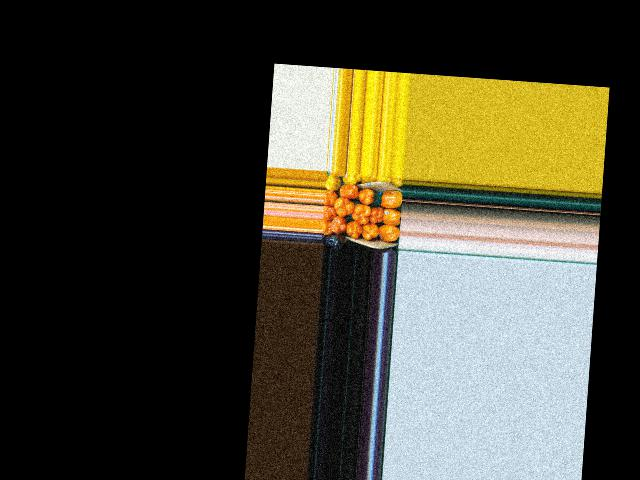bell_pepper: (341, 173, 363, 185)
